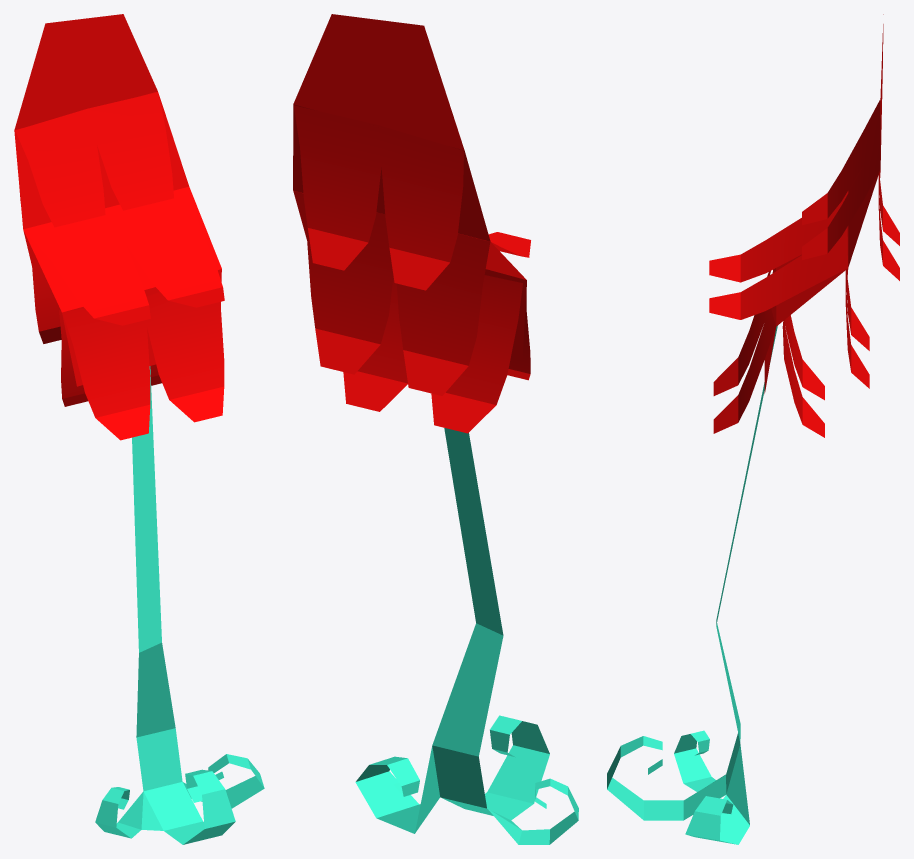
The model's file is tree_2.FBX.
3 renders of one model, left to right at view 1: azimuth 30°, elevation 25°; view 2: azimuth 150°, elevation 25°; view 3: azimuth 270°, elevation 25°, orthographic. The views are drawn at different scales.
Visible parts, largest first — view 1: tree_A_v2_top, tree_A_v2_base; view 2: tree_A_v2_top, tree_A_v2_base; view 3: tree_A_v2_top, tree_A_v2_base.
Boxes of the visible parts, x1,y1,x2,y2 form: tree_A_v2_top: [14, 14, 224, 440]; tree_A_v2_base: [95, 366, 264, 844]; tree_A_v2_top: [293, 14, 530, 433]; tree_A_v2_base: [355, 428, 578, 844]; tree_A_v2_top: [709, 14, 899, 437]; tree_A_v2_base: [607, 325, 777, 844].
Size of the model in its own units: 3629 by 5007 by 14624.
